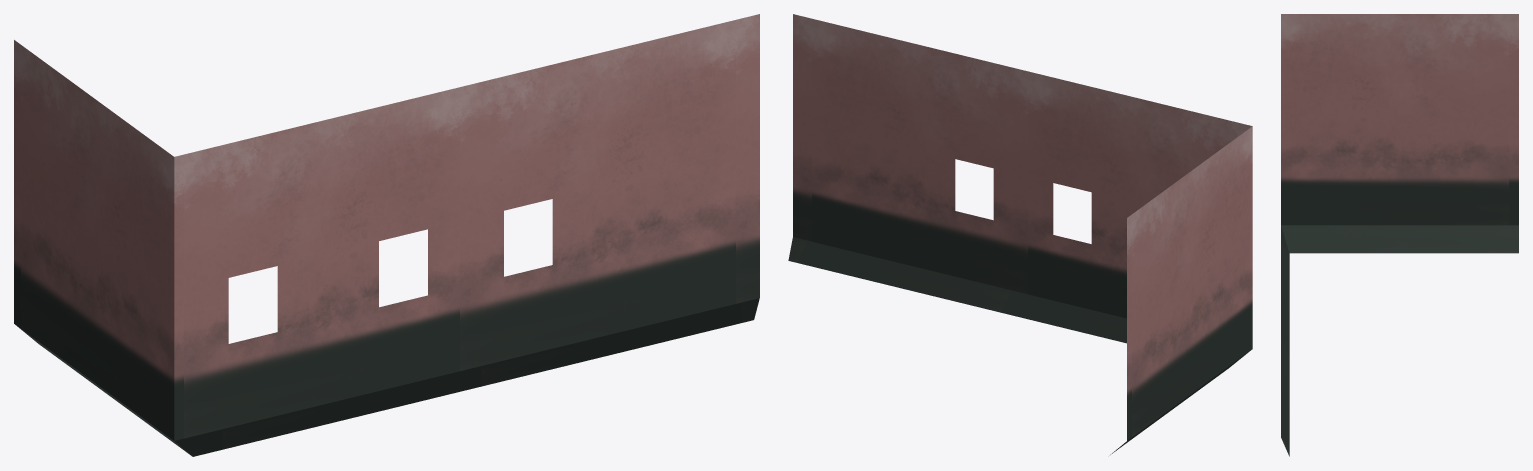
The model's file is Wall_M.fbx.
3 views of the same model, side by side, from view 1: azimuth 30°, elevation 25°; view 2: azimuth 150°, elevation 25°; view 3: azimuth 270°, elevation 25° (orthographic). The views are drawn at different scales.
Parts seen in each view (by area): view 1: Wall_M; view 2: Wall_M; view 3: Wall_M.
Boxes of the visible parts, left/top/right/bottom form: Wall_M: left=14, top=14, right=759, bottom=456; Wall_M: left=788, top=14, right=1252, bottom=454; Wall_M: left=1281, top=14, right=1518, bottom=456.
Bounding box in the file's own units: 1516 × 768 × 718.
